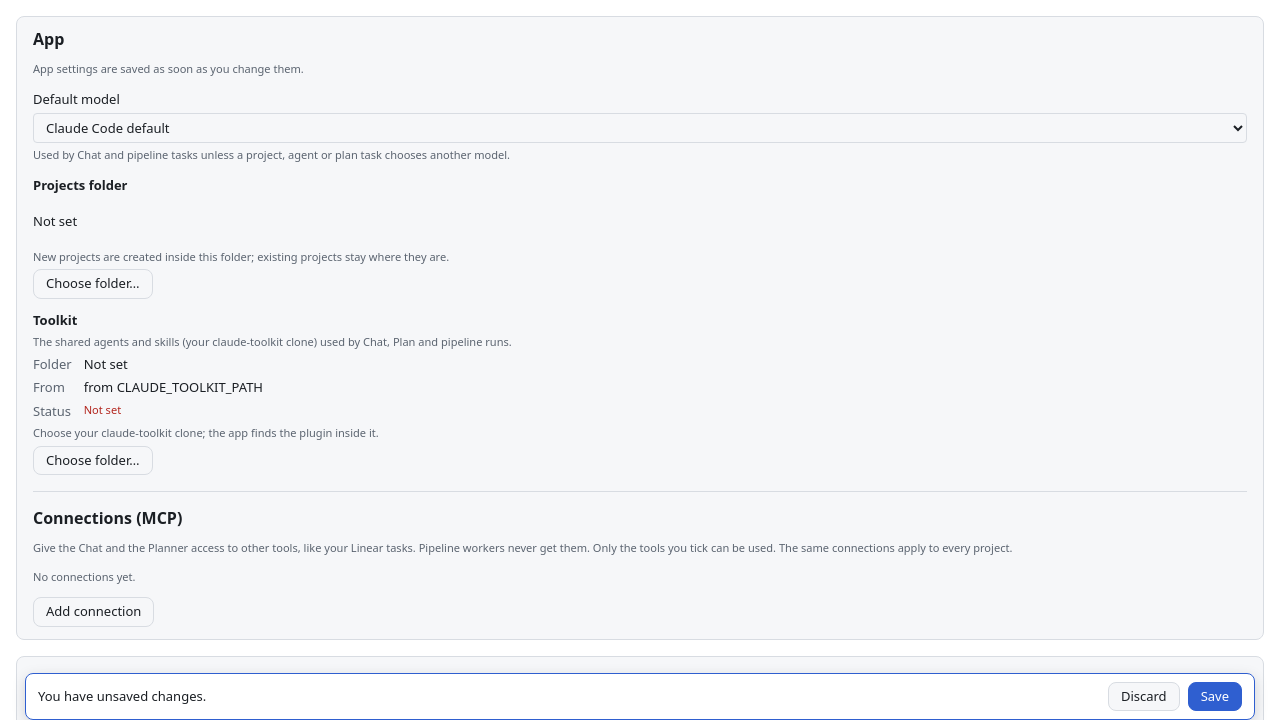
Scenario: limits fields › sends the three integers with the existing fields
Earlier steps of the test are not shown.
Step 1. Click the button "Save" → coordinates (1215, 696), box [1188,682,1242,711]
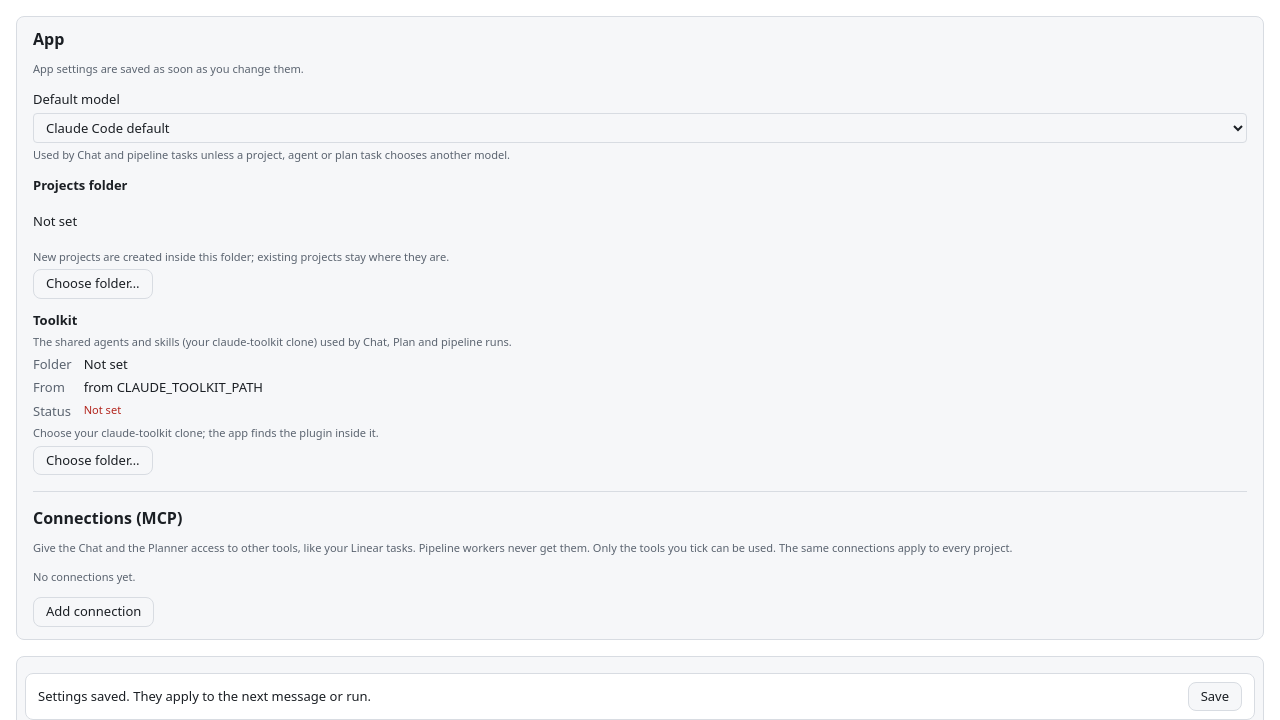
Now the text "Settings saved. They apply to the next message or run." is shown, box [38,686,371,704]
